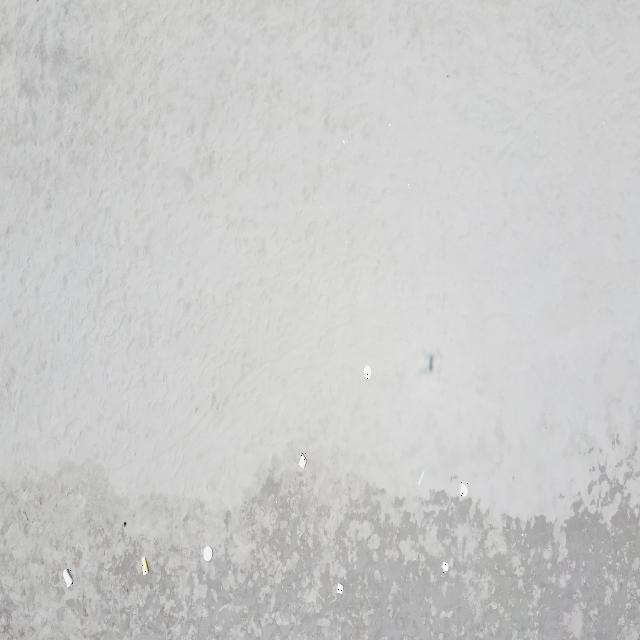take-away-containers: (203, 546, 213, 562), (298, 453, 307, 470), (460, 482, 468, 498), (363, 365, 372, 379), (442, 560, 450, 573), (337, 582, 344, 594)
takeaway-cup: (62, 567, 74, 588), (416, 468, 426, 488), (141, 556, 149, 576)
